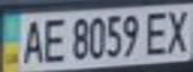0: (87, 13, 106, 60)
5: (103, 11, 124, 60)
8: (66, 14, 90, 62)
9: (121, 11, 145, 58)
A: (18, 16, 45, 65)
E: (39, 15, 69, 64), (142, 7, 172, 56)
X: (163, 6, 193, 54)
